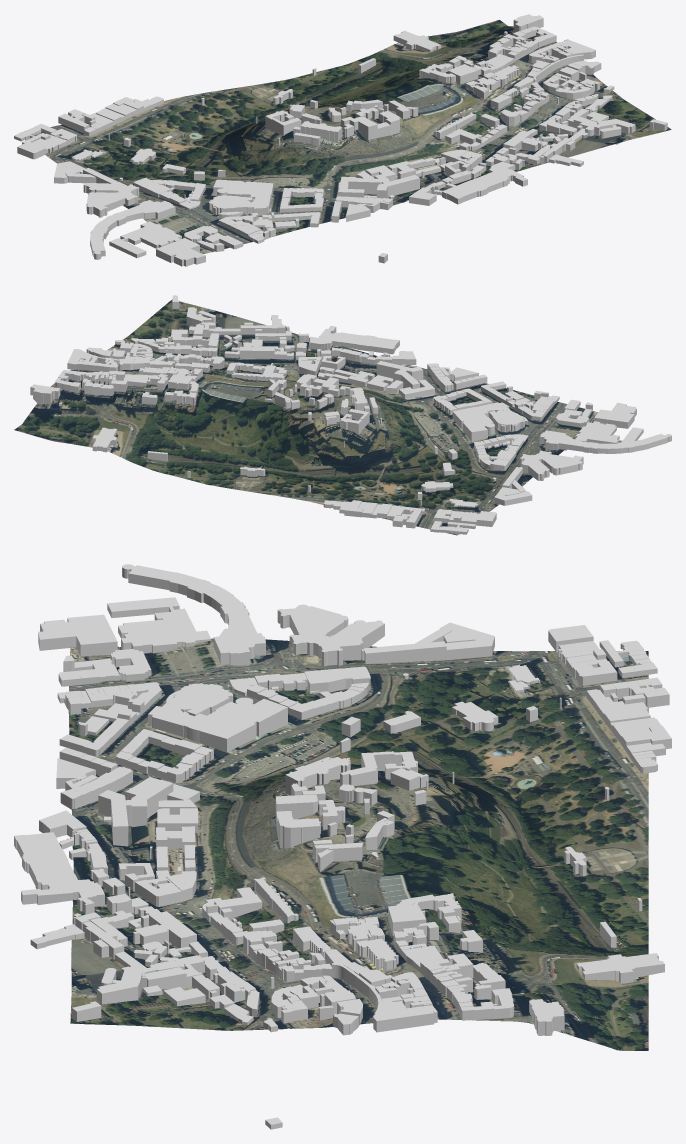
Rendered from edinburgh-castle.glb.
The picture shows the model from 3 angles, top to bottom: view 1: azimuth 30°, elevation 25°; view 2: azimuth 150°, elevation 25°; view 3: azimuth 270°, elevation 25°; orthographic projection. The views are drawn at different scales.
Visible parts, largest first — view 1: Object_2, Object_3; view 2: Object_3, Object_2; view 3: Object_3, Object_2.
Part boxes in pixels (x1,y1,x2,y2): Object_2: (14,14,667,266); Object_3: (25,20,671,253); Object_3: (14,299,597,535); Object_2: (30,295,671,534); Object_3: (68,638,648,1050); Object_2: (14,564,671,1129).
Size of the model in its own units: 1913 by 241 by 1128.
Materials: 2 (1 with a texture image).
